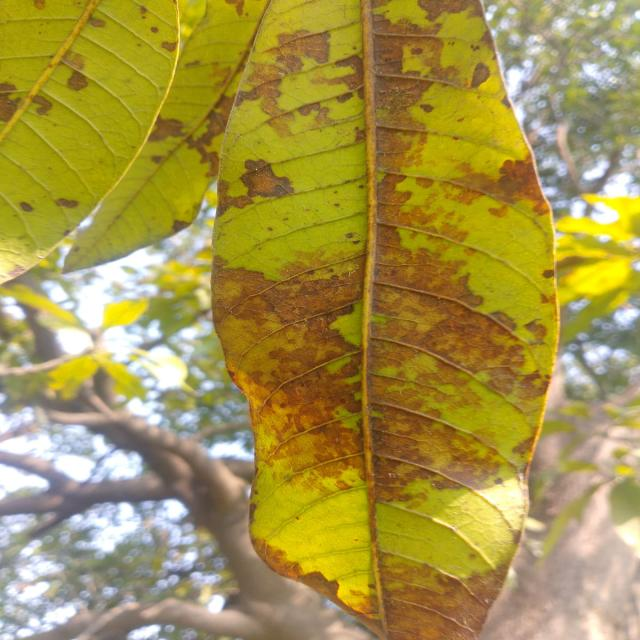Anthracnose: (354, 259, 549, 493), (217, 259, 368, 544), (347, 24, 446, 166)
